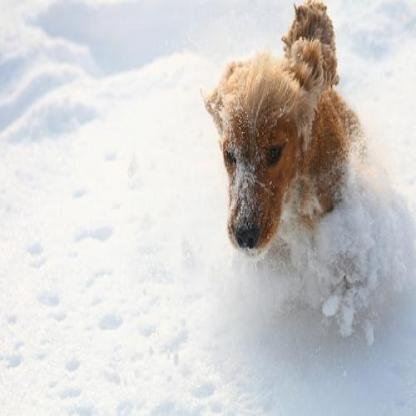cocker_spaniel: (198, 0, 367, 259)
